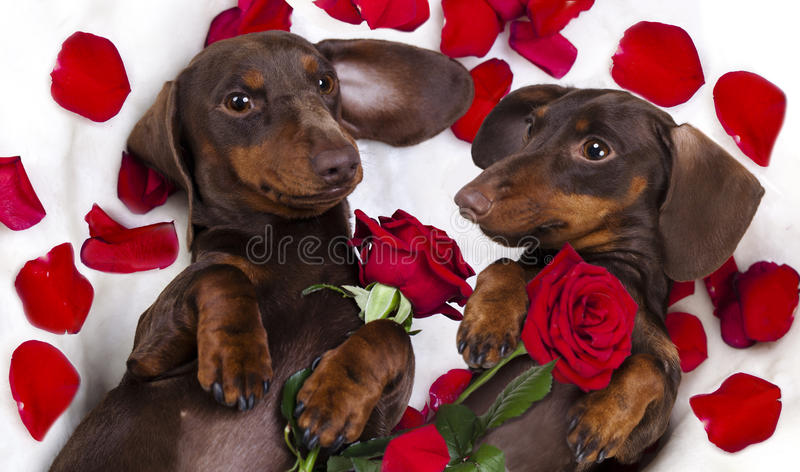RedRose: (518, 232, 648, 393), (341, 197, 473, 322)
